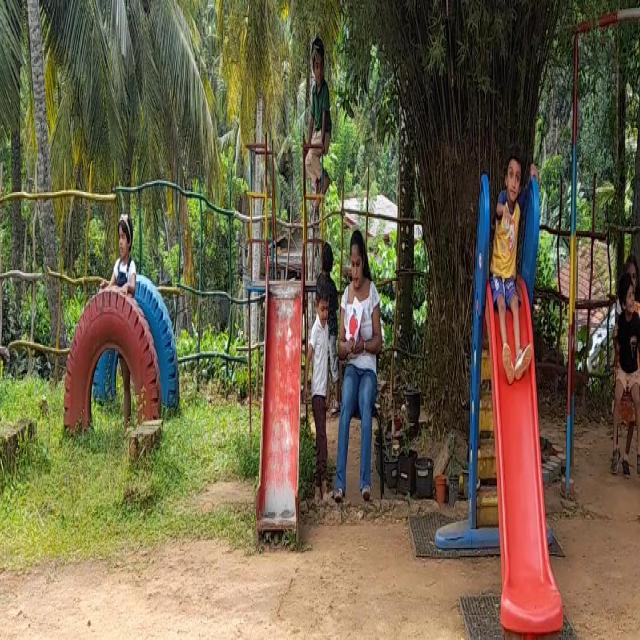adult: (340, 201, 390, 506)
child: (496, 123, 531, 381), (304, 266, 335, 516), (613, 240, 640, 465), (306, 27, 334, 196)
